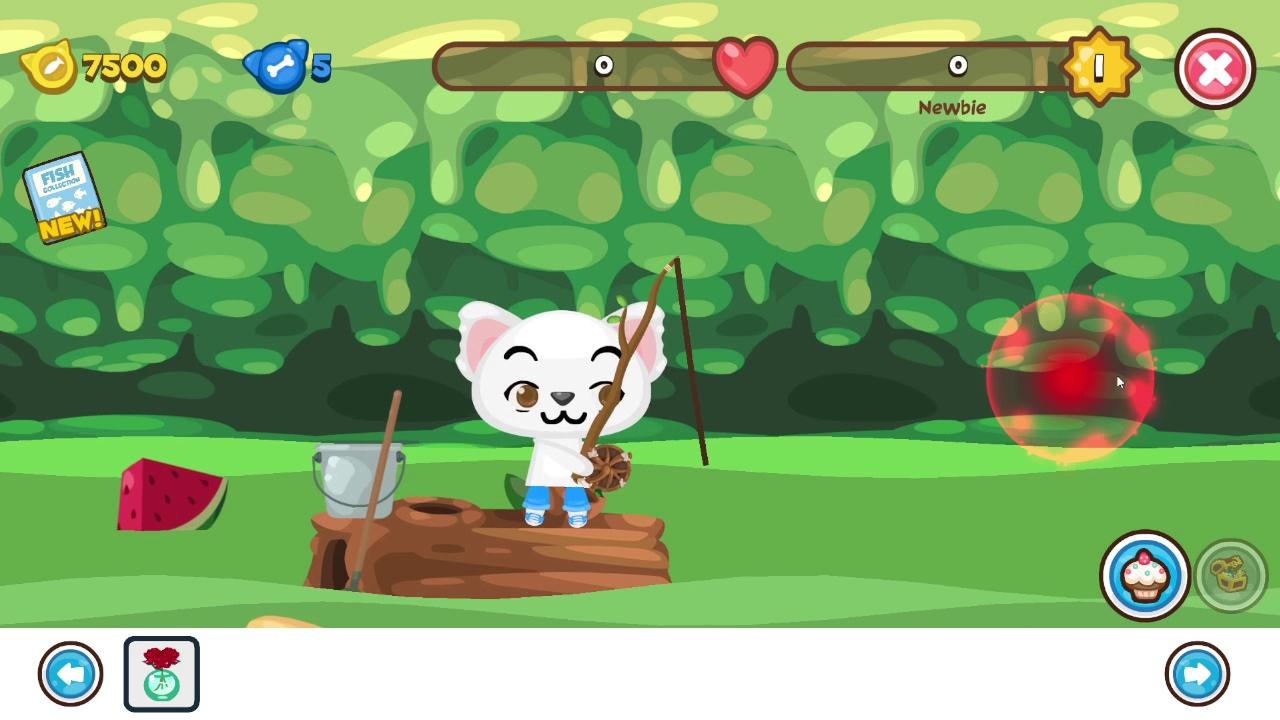point: (987, 289, 1158, 460)
